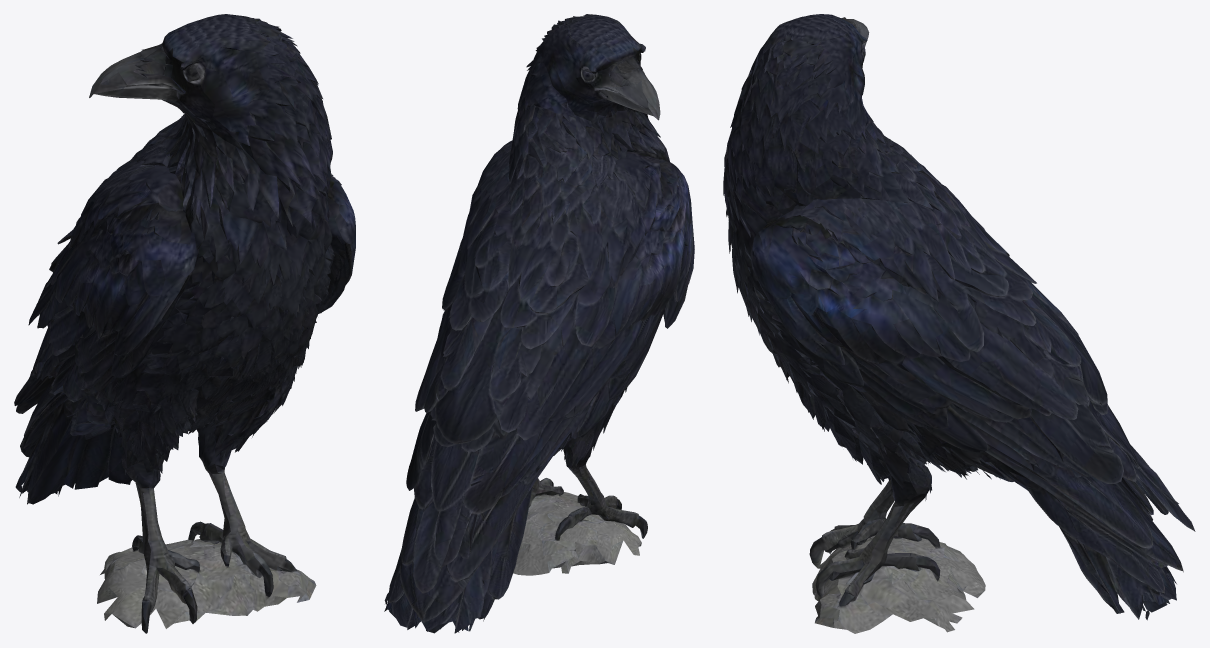
The model's file is raven_sit.glb.
3 views of the same model, side by side, from view 1: azimuth 30°, elevation 25°; view 2: azimuth 150°, elevation 25°; view 3: azimuth 270°, elevation 25° (orthographic). The views are drawn at different scales.
Parts seen in each view (by area): view 1: output_unwrapped; view 2: output_unwrapped; view 3: output_unwrapped.
Part boxes in pixels (<box>): output_unwrapped: <box>14,14,355,633</box>; output_unwrapped: <box>384,14,694,633</box>; output_unwrapped: <box>723,14,1195,633</box>.
Size of the model in its own units: 0.7329 by 1.77 by 1.35.
1 material, 1 textured.
